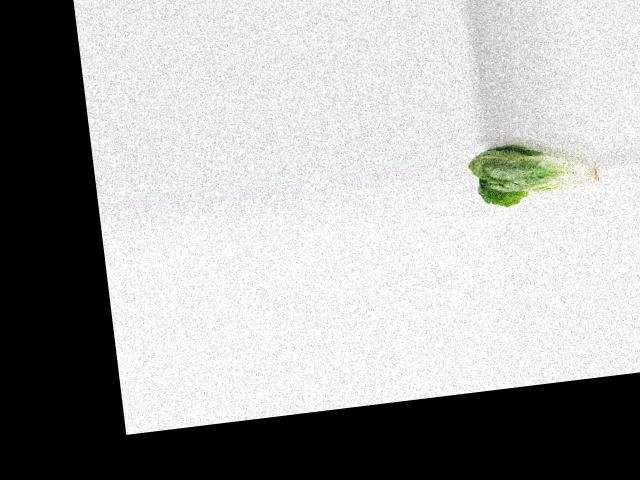lettuce: (465, 131, 607, 212)
